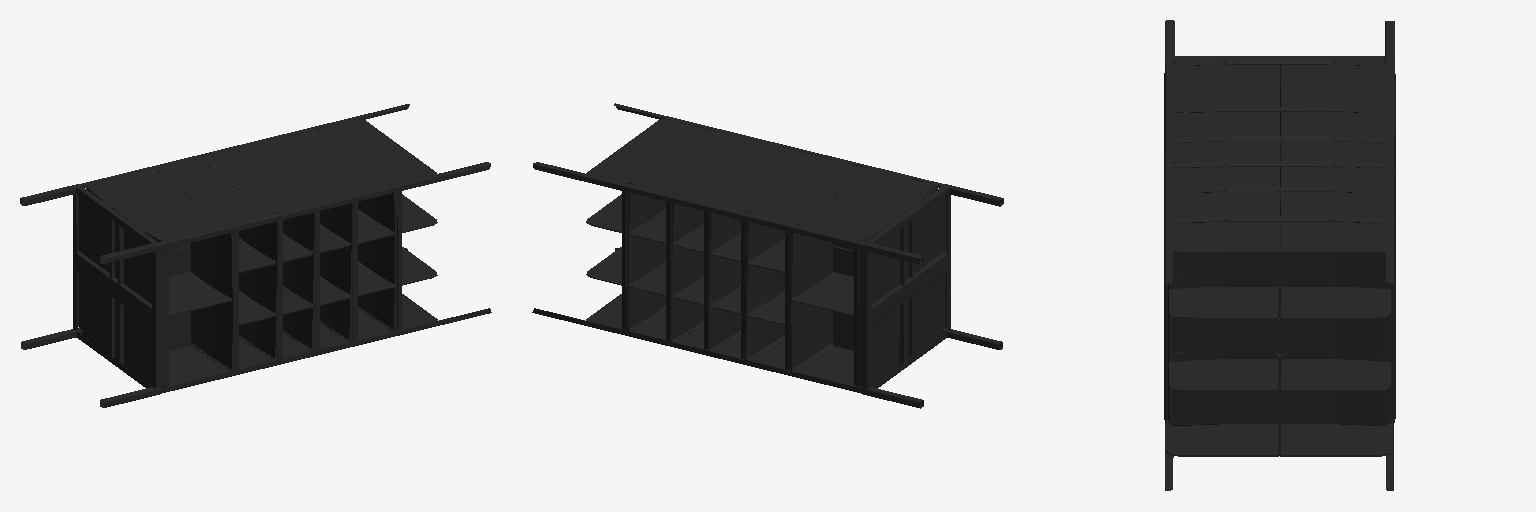
The robot description file, URDF, robot "kiva_pod":
<?xml version="1.0"?>

<robot name="kiva_pod">

  <link name="kiva_pod_body">
    <visual>
      <origin rpy="1.57 0 1.57" xyz="0 0 -1.18"/>
      <geometry>
        <mesh filename="package://jsk_2015_apc_common/kiva_pod/meshes/pod_lowres.stl"/>
      </geometry>
      <material name="darkgray">
        <color rgba=".2 .2 .2 1"/>
      </material>
    </visual>
    <collision>
      <origin rpy="1.57 0 1.57" xyz="0 0 -1.18"/>
      <geometry>
        <mesh filename="package://jsk_2015_apc_common/kiva_pod/meshes/pod_lowres.stl"/>
      </geometry>
    </collision>
  </link>

</robot>

--- Render facts (derived) ---
Views: 3 orthographic renders of the robot side by side, from view 1: azimuth 30°, elevation 25°; view 2: azimuth 150°, elevation 25°; view 3: azimuth 270°, elevation 25°.
Model kiva_pod with 1 links and 0 joints (none), rooted at kiva_pod_body, posed all joints at 0.
Visible links, largest first — view 1: kiva_pod_body; view 2: kiva_pod_body; view 3: kiva_pod_body.
Boxes of the visible links, x1=… form: kiva_pod_body: x1=20, y1=104, x2=491, y2=407; kiva_pod_body: x1=532, y1=103, x2=1003, y2=408; kiva_pod_body: x1=1164, y1=20, x2=1395, y2=490.
Size in the robot's own frame: 2.37 by 0.8853 by 0.8807 metres.
1 mesh visuals loaded from 1 distinct referenced files (1 binary STL).